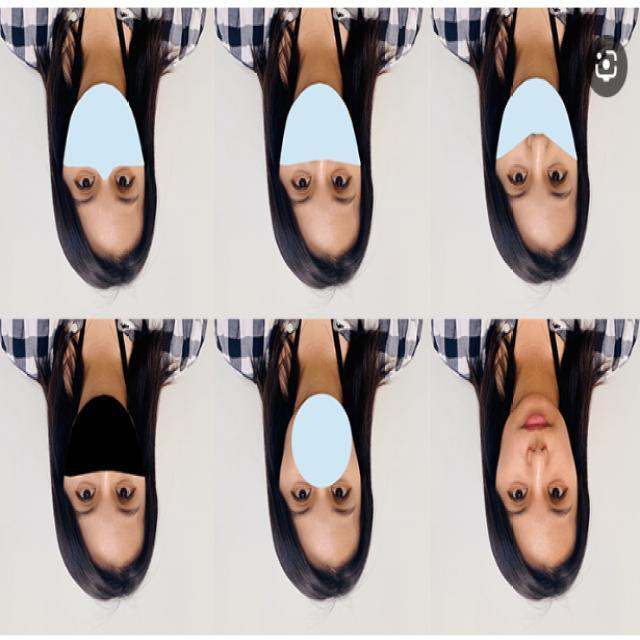face_half_mask: (493, 76, 586, 260)
face_mask: (277, 400, 372, 568), (282, 81, 368, 256), (62, 101, 152, 265), (65, 401, 152, 566)
face_no_mask: (498, 397, 587, 561)
